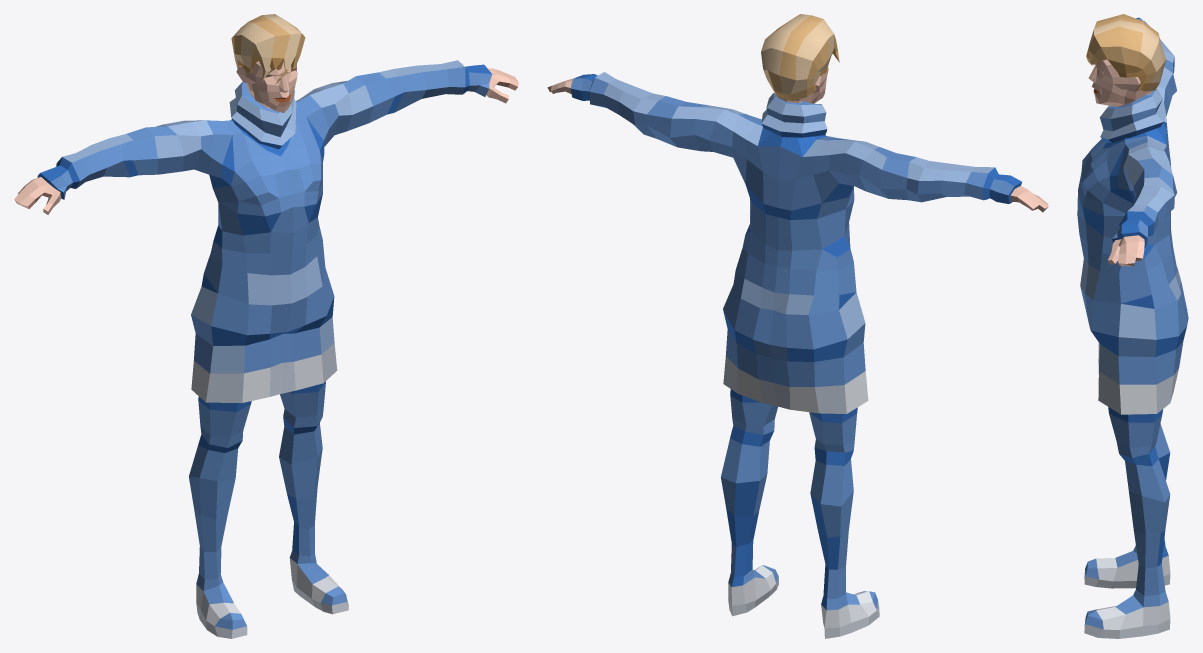
File: winter_Female_A-model.fbx
The picture shows the model from 3 angles, left to right: view 1: azimuth 30°, elevation 25°; view 2: azimuth 150°, elevation 25°; view 3: azimuth 270°, elevation 25°; orthographic projection.
Parts seen in each view (by area): view 1: winter_Female_A, acc_short_hair; view 2: winter_Female_A, acc_short_hair; view 3: winter_Female_A, acc_short_hair.
Part boxes in pixels (x1,y1,x2,y2): winter_Female_A: [14, 60, 518, 638]; acc_short_hair: [231, 14, 305, 84]; winter_Female_A: [547, 66, 1048, 638]; acc_short_hair: [761, 14, 839, 100]; winter_Female_A: [1077, 17, 1188, 638]; acc_short_hair: [1086, 14, 1165, 91].
Size of the model in its own units: 153 by 173 by 29.68.
1 material, 1 textured.
